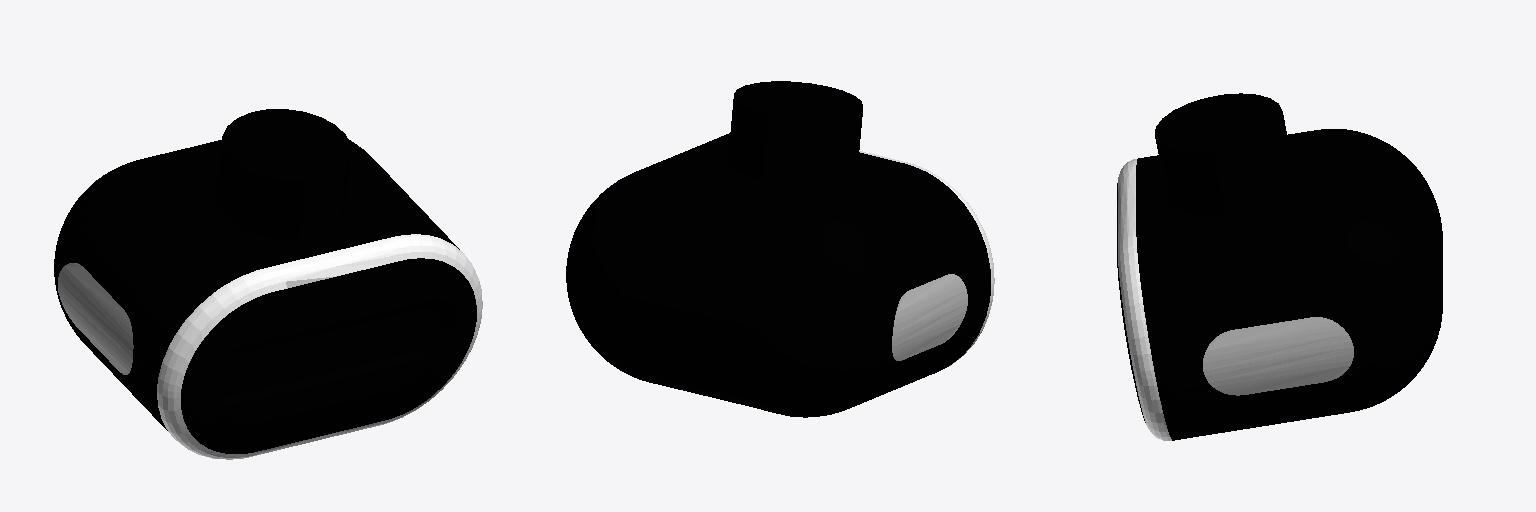
Rendered from zed_link.obj.
3 views of the same model, side by side, from view 1: azimuth 30°, elevation 25°; view 2: azimuth 150°, elevation 25°; view 3: azimuth 270°, elevation 25° (orthographic).
Parts seen in each view (by area): view 1: zed_link; view 2: zed_link; view 3: zed_link.
Part boxes in pixels (x1,y1,x2,y2): zed_link: (54,109,482,459); zed_link: (566,81,994,417); zed_link: (1117,93,1442,440).
Size of the model in its own units: 0.201 by 0.1707 by 0.1757.